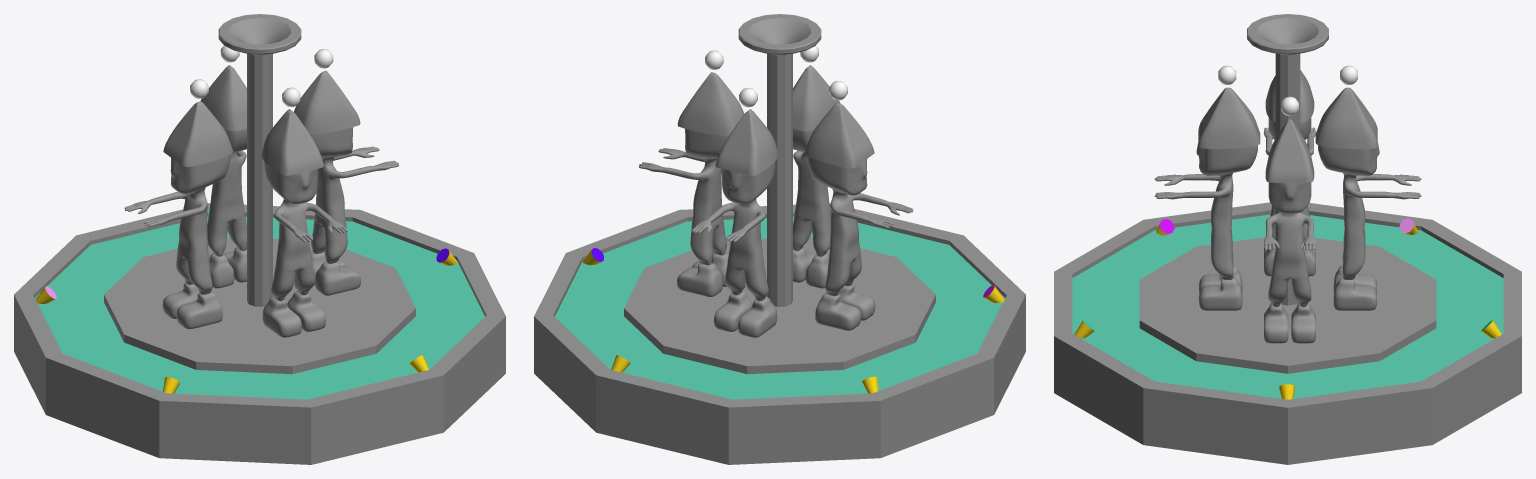
The model's file is Dream_Fountain.FBX.
3 views of the same model, side by side, from view 1: azimuth 30°, elevation 25°; view 2: azimuth 150°, elevation 25°; view 3: azimuth 270°, elevation 25° (orthographic).
Parts seen in each view (by area): view 1: NGon001, Water, SleepwalkingStatue001, SleepwalkingStatue003, SleepwalkingStatue002, SleepwalkingStatue004, fountain top, Sprayers; view 2: NGon001, Water, SleepwalkingStatue001, SleepwalkingStatue004, SleepwalkingStatue002, SleepwalkingStatue003, fountain top, Sprayers; view 3: NGon001, Water, SleepwalkingStatue002, SleepwalkingStatue004, SleepwalkingStatue003, fountain top, SleepwalkingStatue001, Sprayers.
Part boxes in pixels (x1,y1,x2,y2): NGon001: (14, 53, 505, 464); Water: (34, 216, 485, 399); SleepwalkingStatue001: (124, 101, 233, 329); SleepwalkingStatue003: (261, 109, 347, 337); SleepwalkingStatue002: (294, 70, 399, 295); SleepwalkingStatue004: (200, 65, 246, 288); fountain top: (218, 14, 301, 54); Sprayers: (35, 208, 457, 393); NGon001: (534, 53, 1025, 464); Water: (554, 216, 1005, 399); SleepwalkingStatue001: (804, 103, 913, 330); SleepwalkingStatue004: (692, 109, 778, 337); SleepwalkingStatue002: (639, 72, 744, 296); SleepwalkingStatue003: (793, 65, 840, 288); fountain top: (738, 14, 821, 54); Sprayers: (583, 209, 1004, 393); NGon001: (1054, 53, 1521, 464); Water: (1072, 214, 1503, 398); SleepwalkingStatue002: (1263, 118, 1315, 343); SleepwalkingStatue004: (1315, 87, 1421, 310); SleepwalkingStatue003: (1154, 87, 1260, 310); fountain top: (1247, 14, 1328, 54); SleepwalkingStatue001: (1263, 70, 1315, 276); Sprayers: (1074, 218, 1501, 399).
Size of the model in its own units: 1339 by 990 by 1273.
